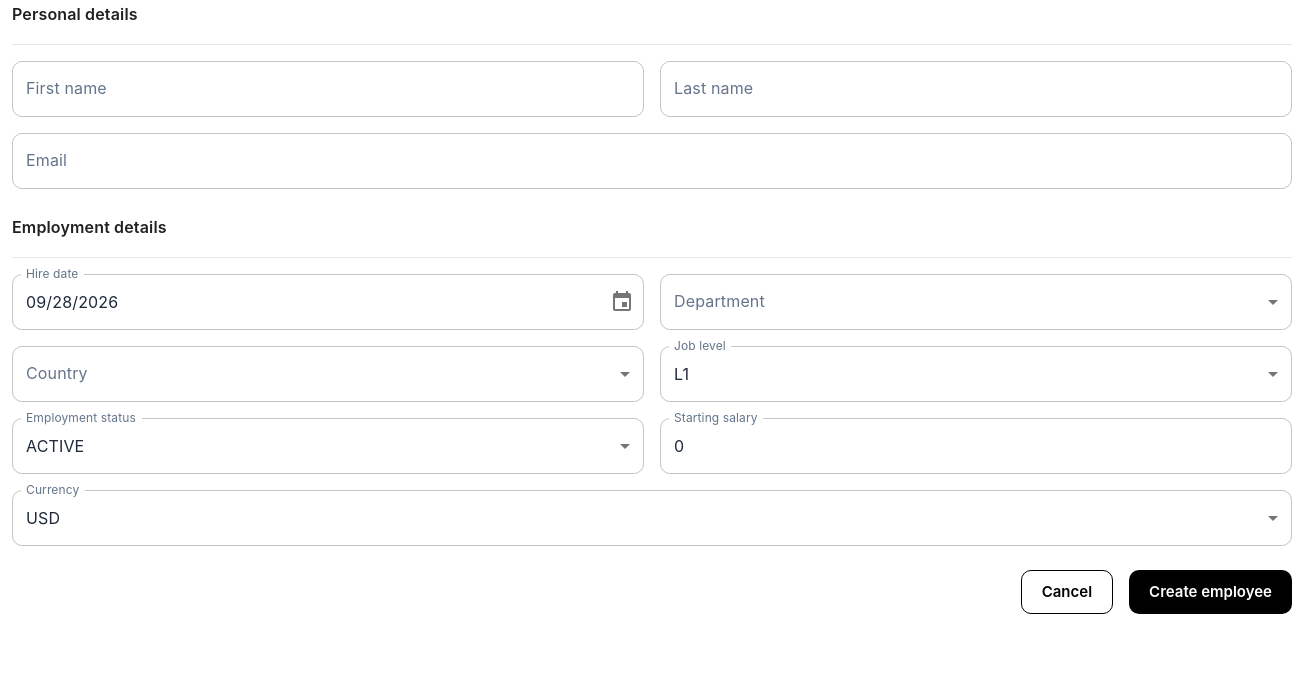
EmployeeFormFields › shows validation errors and does not submit when required fields are blank
Click the button "Create employee".
click(1211, 592)  # box [1129, 570, 1292, 614]
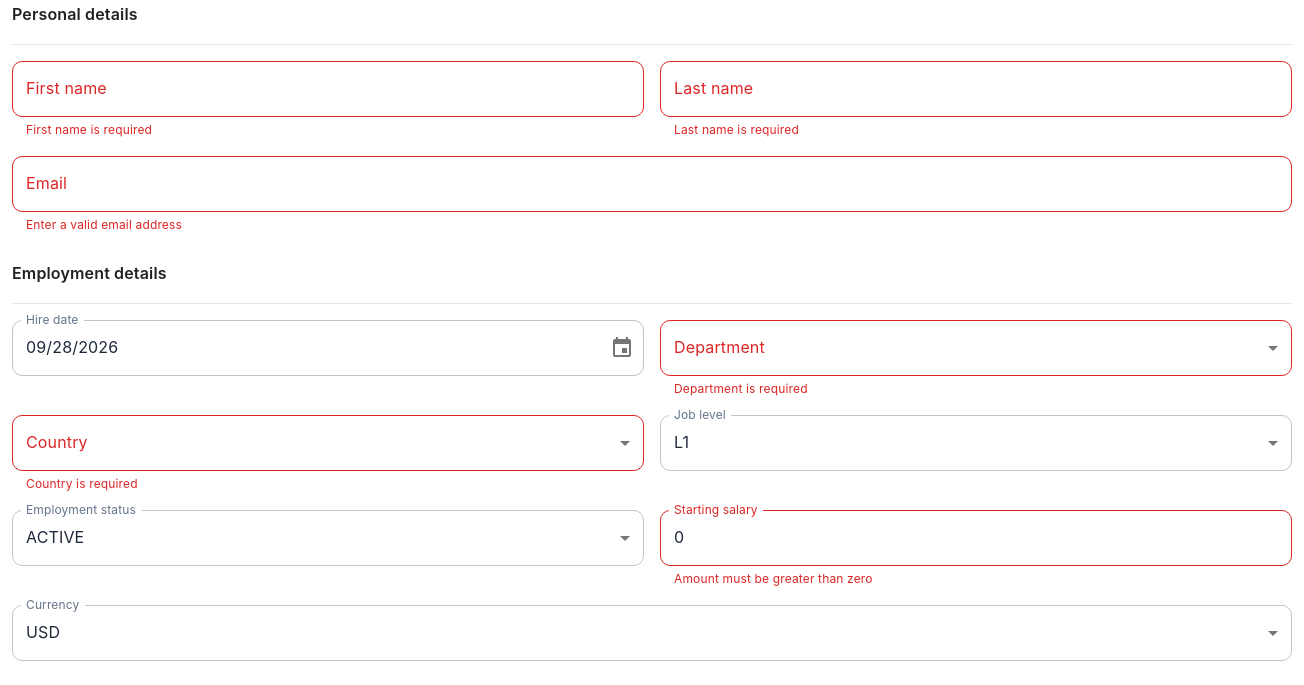
expect the text "First name is required" is shown: met, box [26, 122, 152, 137]
